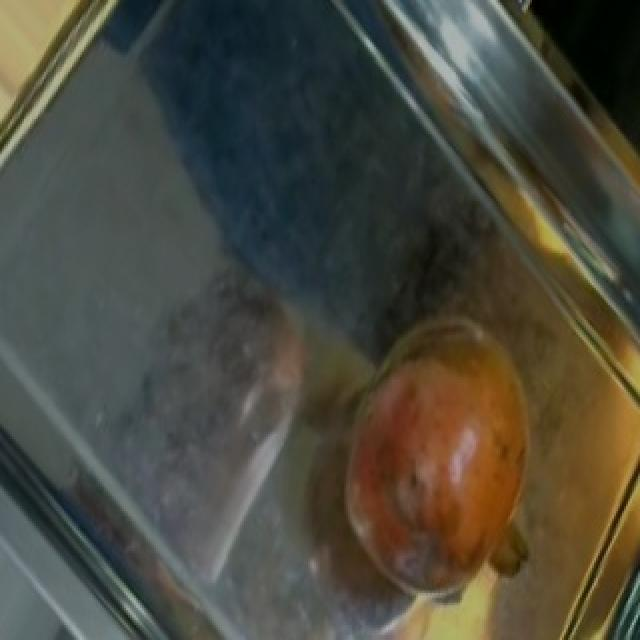fruit: (308, 308, 564, 635)
